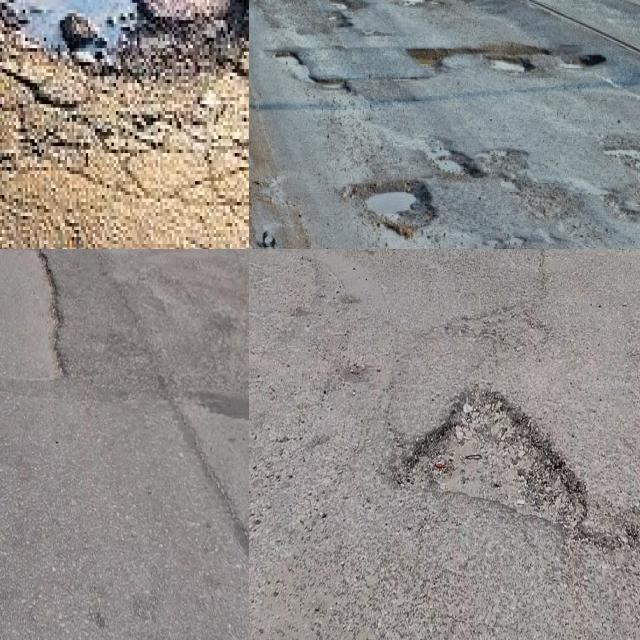Pothole: (405, 385, 590, 532), (275, 52, 349, 92), (366, 192, 434, 228), (446, 152, 483, 175), (408, 49, 448, 67), (494, 55, 535, 72), (576, 54, 605, 69), (326, 0, 354, 9), (631, 159, 640, 173)
